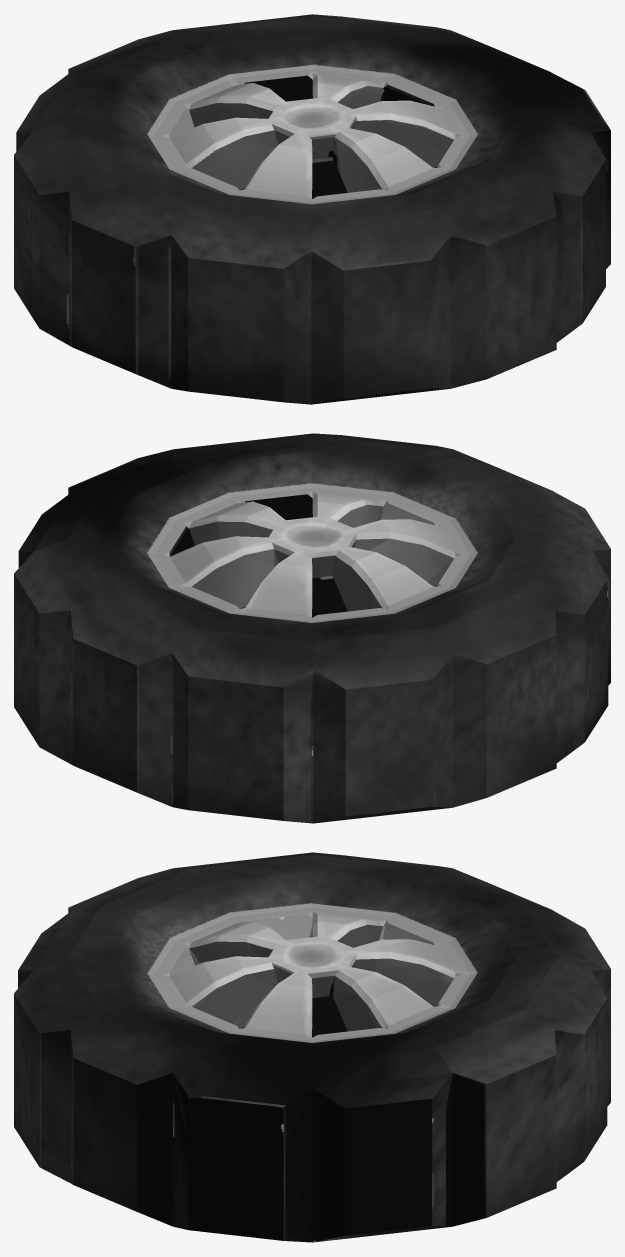
The model's file is wheel.dae.
3 renders of one model, top to bottom at view 1: azimuth 30°, elevation 25°; view 2: azimuth 150°, elevation 25°; view 3: azimuth 270°, elevation 25°, orthographic.
Visible parts, largest first — view 1: Cylinder.004; view 2: Cylinder.004; view 3: Cylinder.004.
Part boxes in pixels (bbox=[...]): Cylinder.004: bbox=[14, 14, 610, 404]; Cylinder.004: bbox=[14, 433, 610, 823]; Cylinder.004: bbox=[14, 852, 610, 1242].
Size of the model in its own units: 2.14 by 2.14 by 0.6746.
